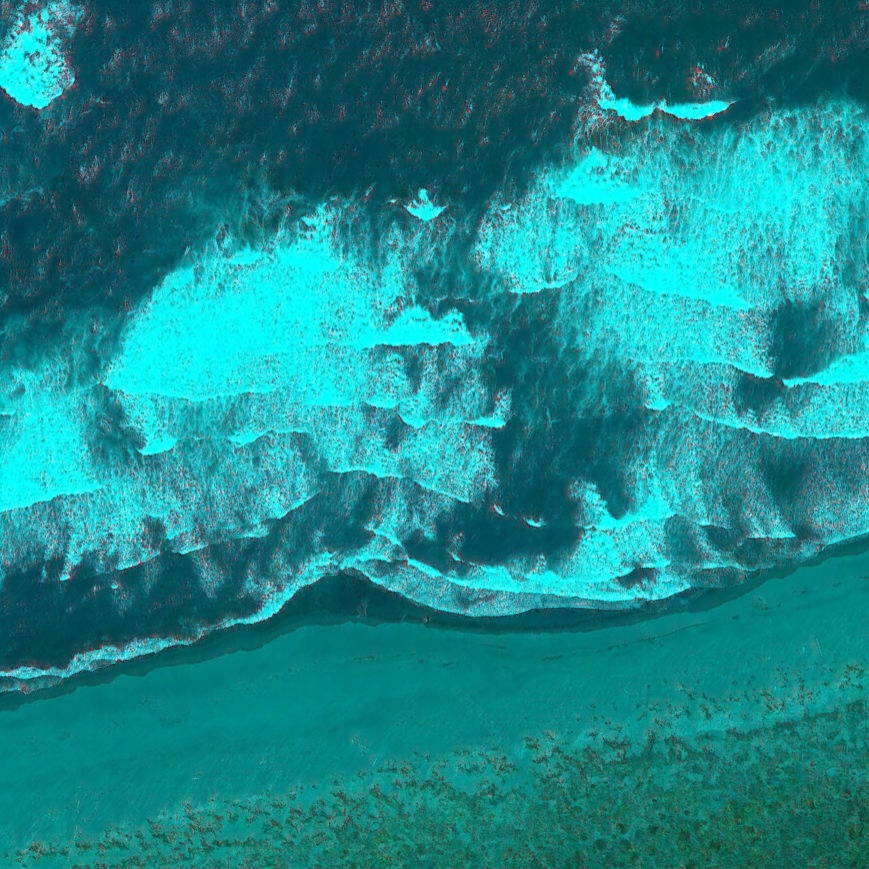rip_current: (360, 135, 652, 567)
